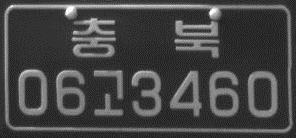0: (246, 68, 279, 117), (17, 67, 49, 116)
3: (131, 69, 163, 117)
4: (169, 68, 202, 118)
6: (208, 69, 240, 119), (54, 68, 86, 116)
고: (92, 68, 125, 118)
충북_D: (71, 16, 221, 60)
